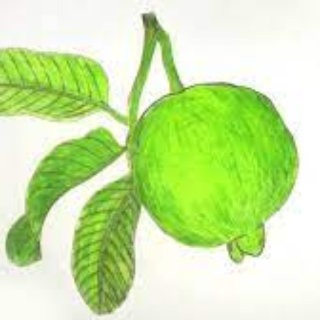oi: (125, 76, 310, 278)
